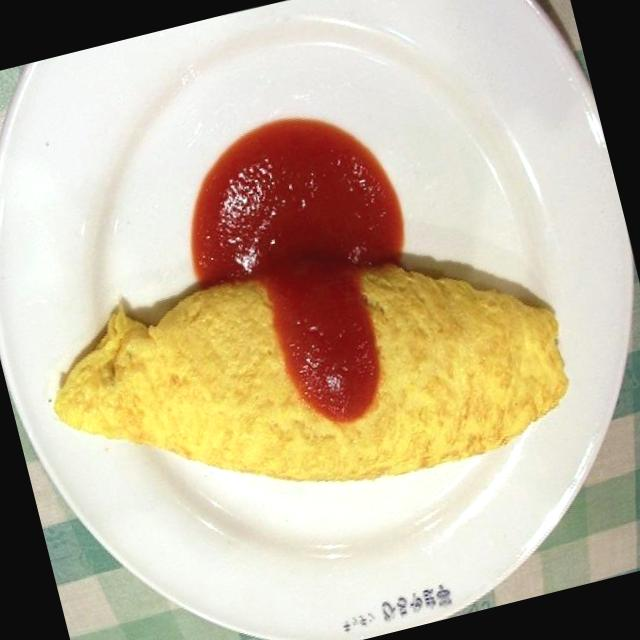Omelet: (25, 194, 600, 562)
